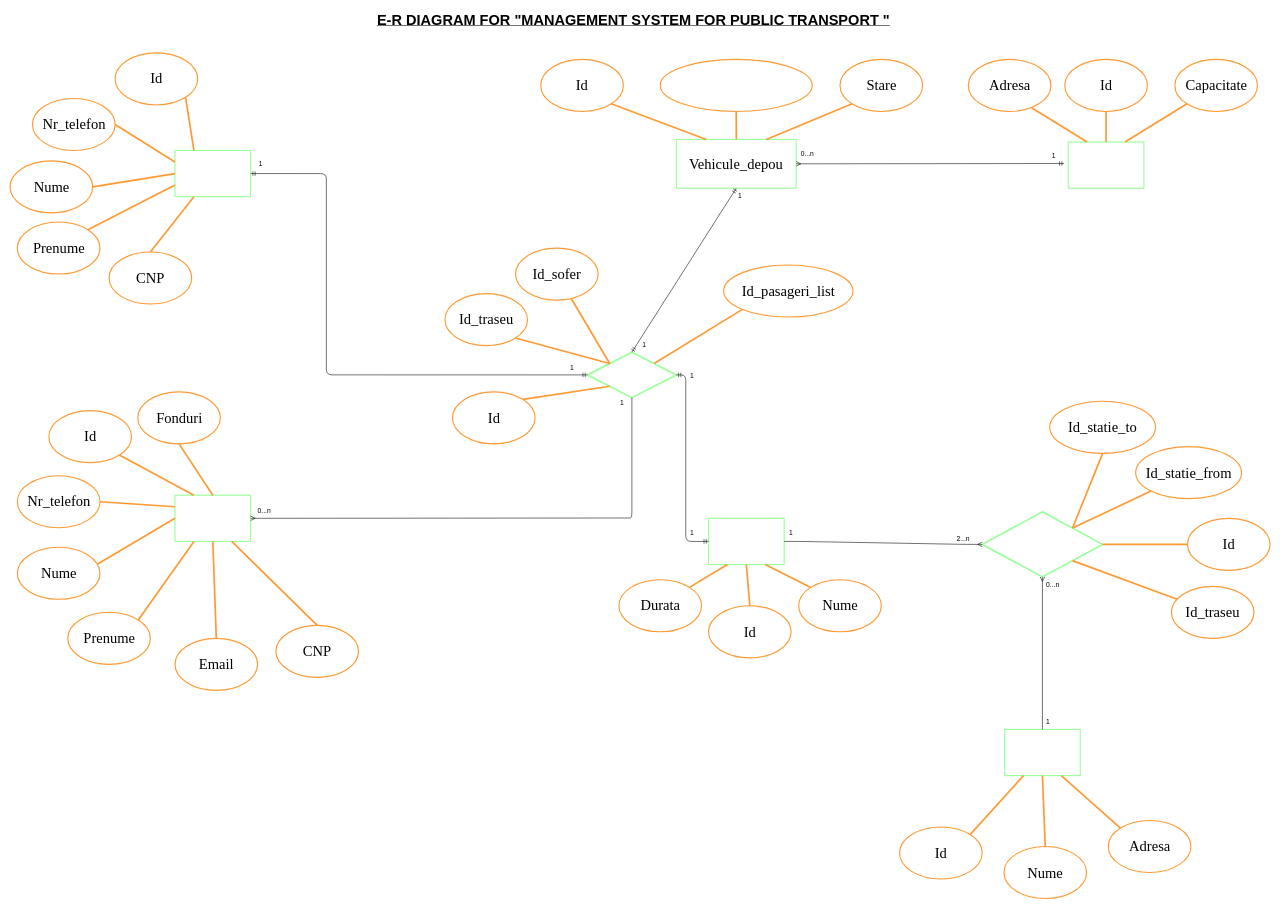
Image size: 1280x908. Some labels were removed from this diagram. The box of each missing label's shape, as (x1, y1, x2, y2) in pixels:
Capacitate_pasageri: (659, 59, 813, 112)
Clienti: (174, 494, 251, 542)
Curse: (586, 351, 677, 398)
Depou: (1067, 141, 1144, 188)
Soferi: (174, 150, 251, 197)
Statii: (1004, 729, 1081, 776)
Trasee: (708, 517, 784, 565)
Trasee_statii: (981, 511, 1103, 577)
